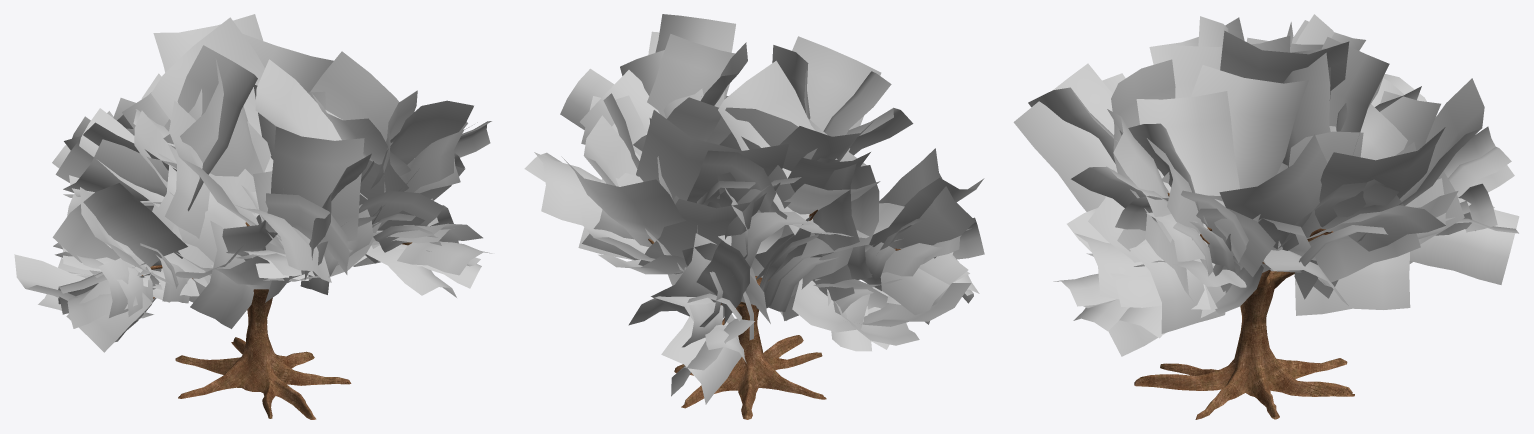
The model's file is Model_Tree_01.fbx.
3 renders of one model, left to right at view 1: azimuth 30°, elevation 25°; view 2: azimuth 150°, elevation 25°; view 3: azimuth 270°, elevation 25°, orthographic. The views are drawn at different scales.
Visible parts, largest first — view 1: Tree_01; view 2: Tree_01; view 3: Tree_01.
Boxes of the visible parts, <box> form: Tree_01: <box>14,14,492,419</box>; Tree_01: <box>524,14,984,419</box>; Tree_01: <box>1013,14,1519,419</box>.
Bounding box in the file's own units: 2310 × 1606 × 2123.
